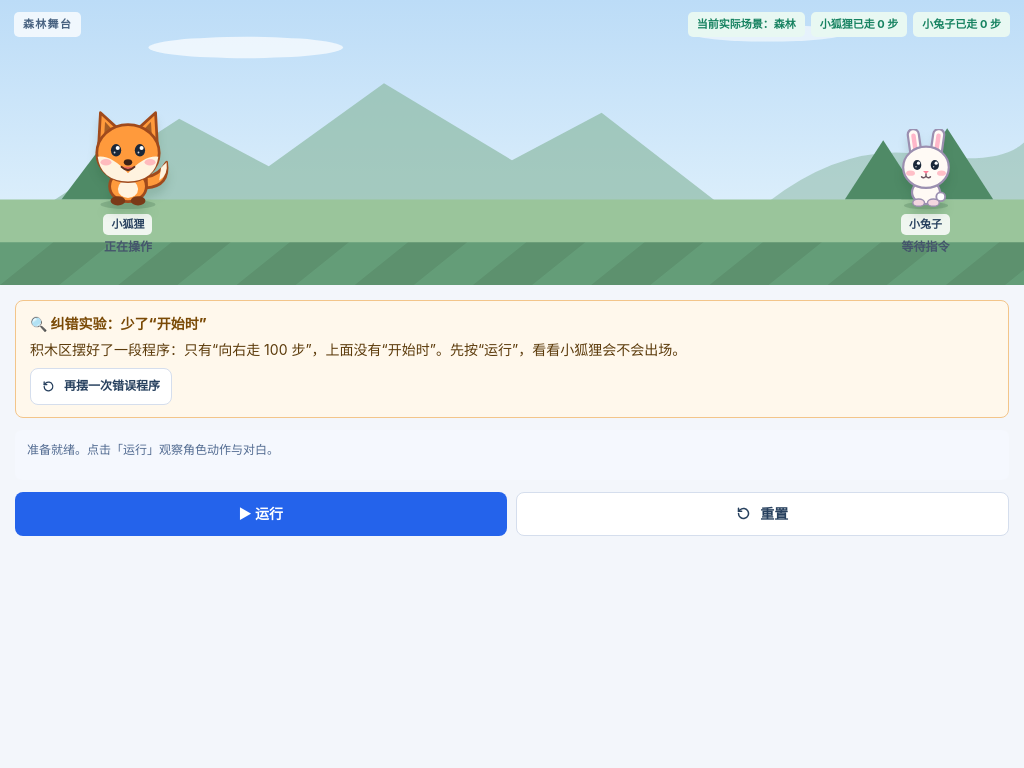
Test case: PlayableStage designed mistake step (TQ-010) › L01: the wrong program (no “开始时”) leaves the fox at 0 steps and reports the designed failure
Expected: the element with test id "mistake-task" shows "纠错实验：少了“开始时”", [50,315,207,332]
Expected: the text with test id "mistake-setup" shows "只有“向右走 100 步”", [30,341,686,358]
Step 1. Click the button with test id "run-code-button" → {"x": 261, "y": 514}, box [15,492,506,536]
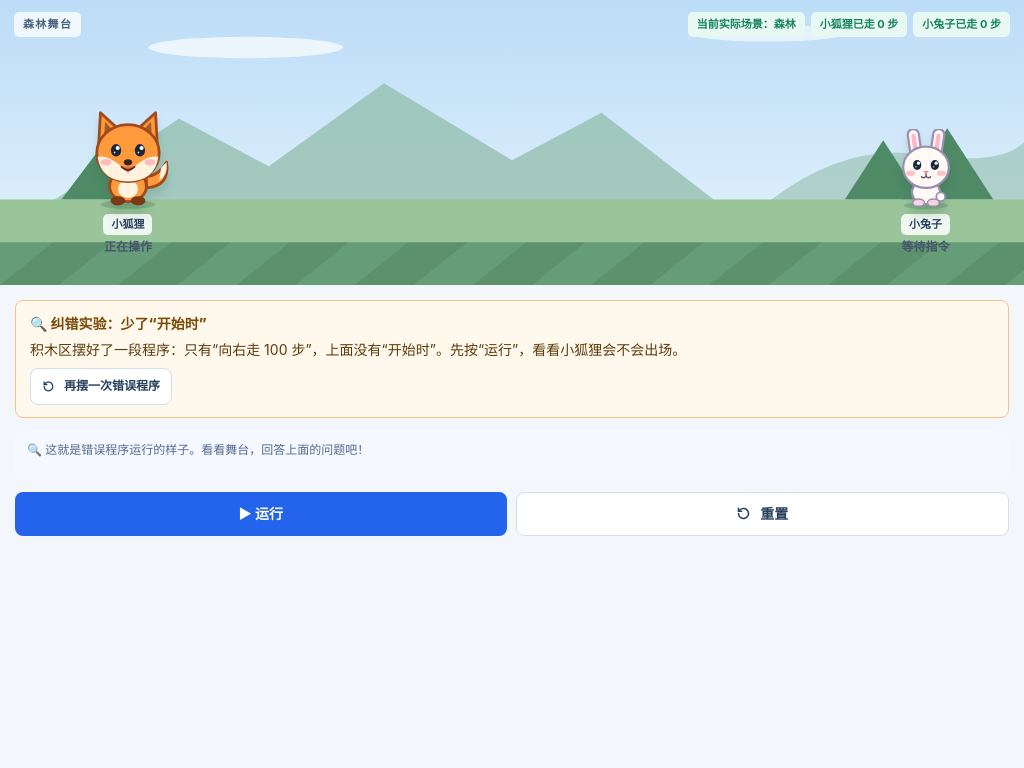
Now the text with test id "mistake-run-result" shows "这就是错误程序运行的样子", box [27,442,369,457]
